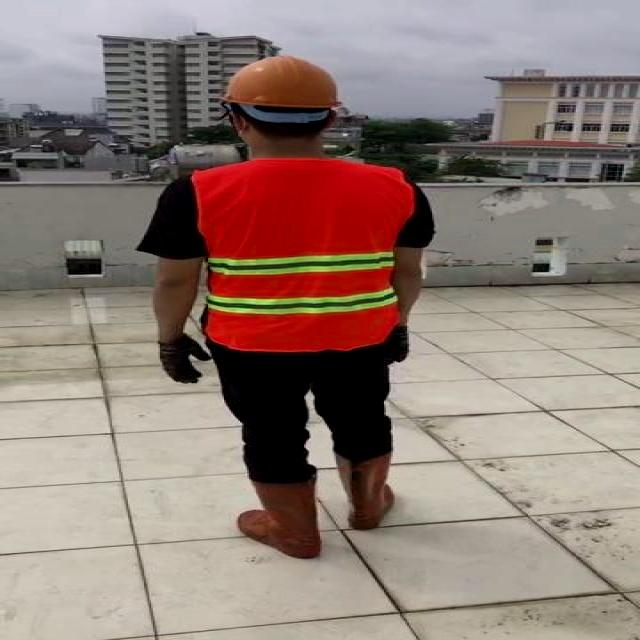boots: (238, 474, 322, 560), (330, 454, 394, 528)
hand_glove: (156, 337, 210, 383), (388, 327, 410, 365)
head_helmet: (217, 51, 348, 112)
person: (126, 51, 441, 558)
vest: (194, 162, 404, 349)
